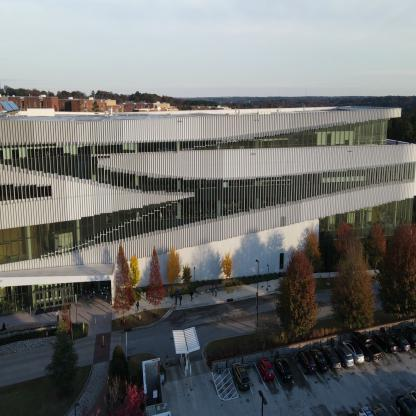Hunt Library: (0, 88, 415, 350)
